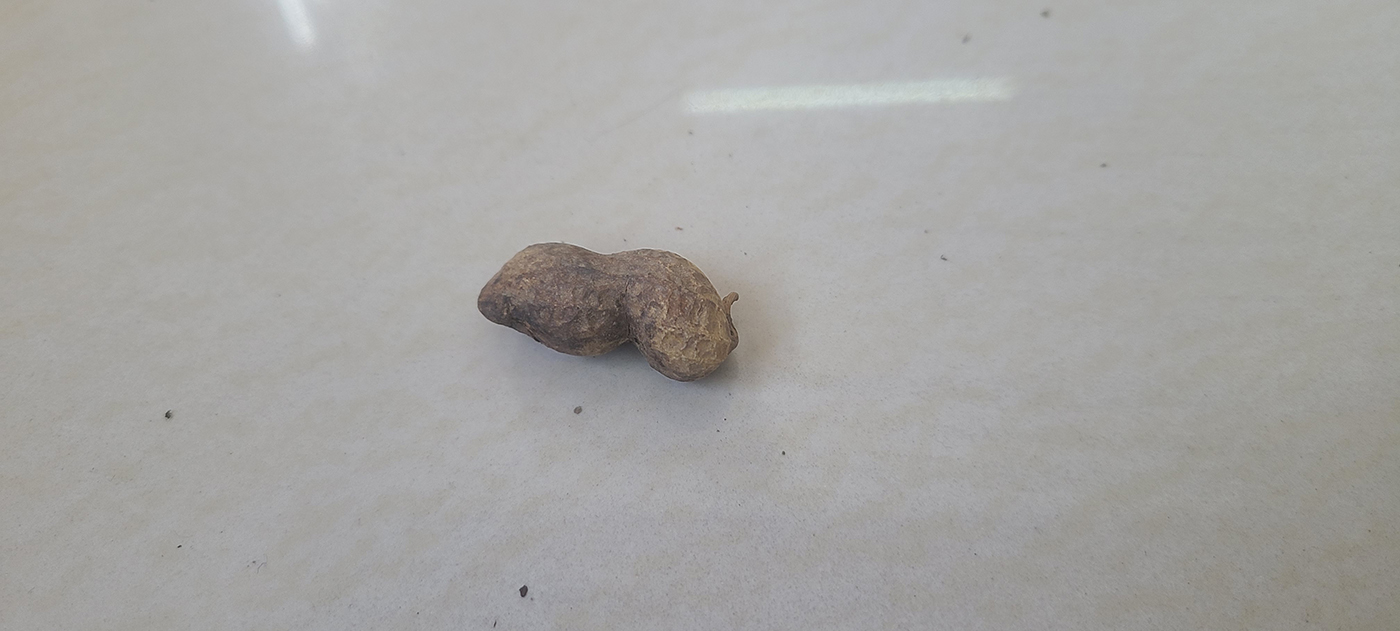l: (474, 235, 740, 382)
